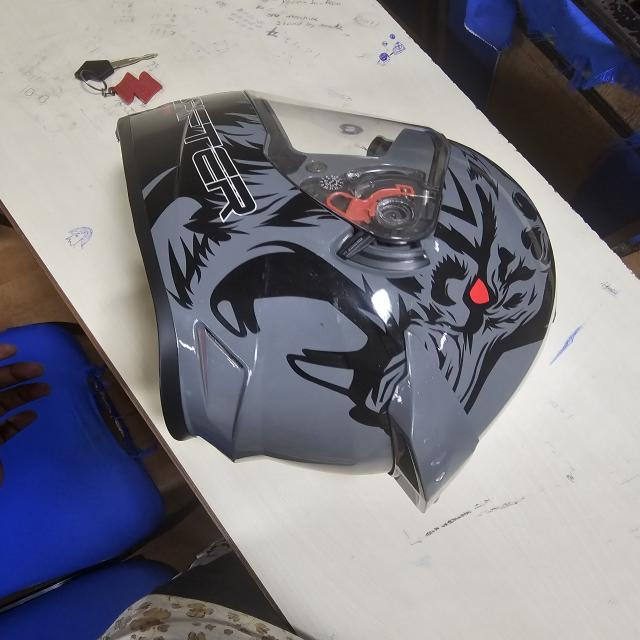helmet: (122, 98, 561, 512)
